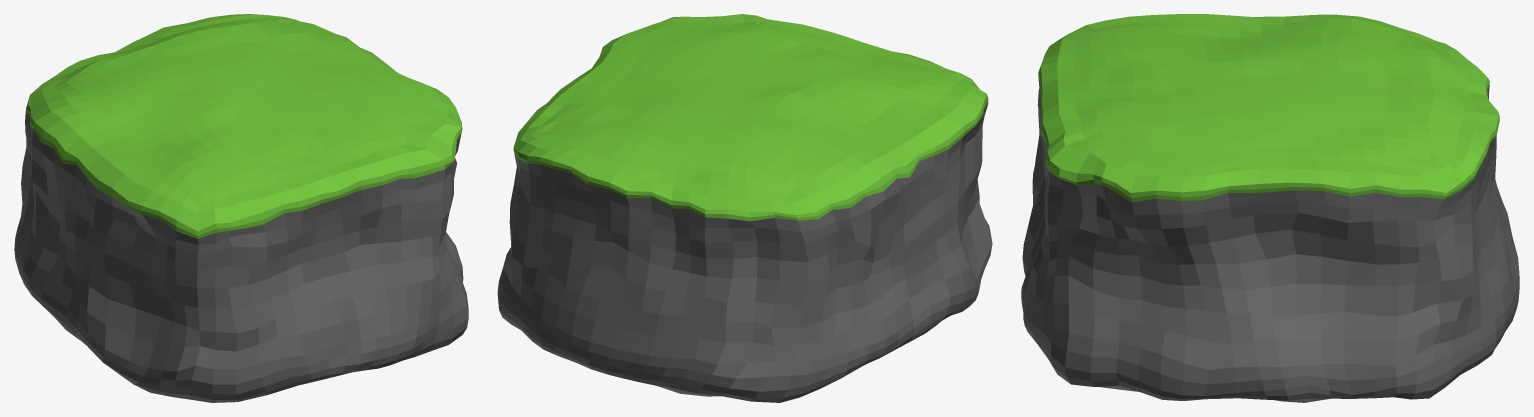
The model's file is boulder3.fbx.
The picture shows the model from 3 angles, left to right: view 1: azimuth 30°, elevation 25°; view 2: azimuth 150°, elevation 25°; view 3: azimuth 270°, elevation 25°; orthographic projection. The views are drawn at different scales.
Parts seen in each view (by area): view 1: Cube.001; view 2: Cube.001; view 3: Cube.001.
Part boxes in pixels (bbox=[...]): Cube.001: bbox=[14, 14, 468, 402]; Cube.001: bbox=[497, 14, 992, 402]; Cube.001: bbox=[1021, 14, 1519, 402].
Bounding box in the file's own units: 398 × 237 × 419.
